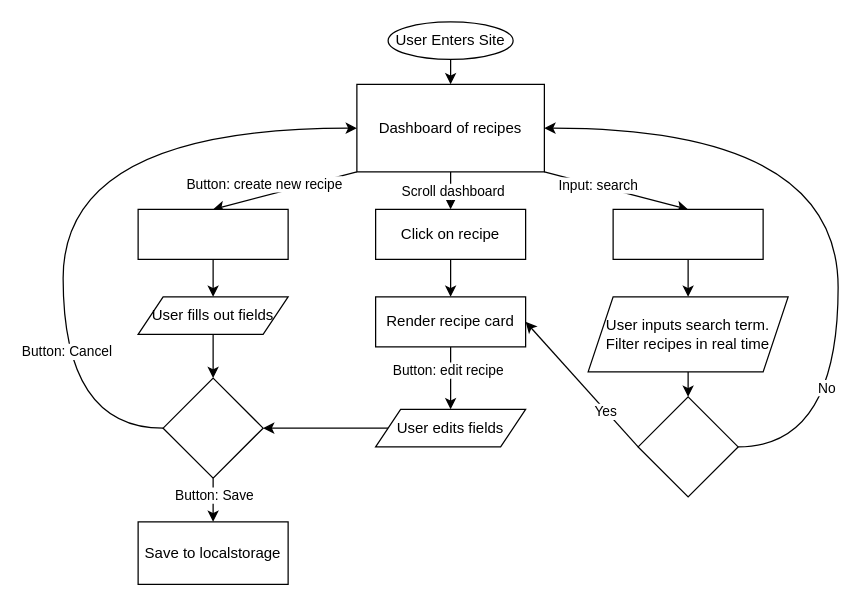
Image size: 860x606. Some labels were removed from this diagram. Here are the shapes that lost their labels. From the top down, the centre of each, then its label:
At point (212, 233): "Render recipe-card fields".
At point (687, 233): "Render search bar & search results".
At point (212, 427): "Save Changes?".
At point (687, 446): "Click recipe card?".
